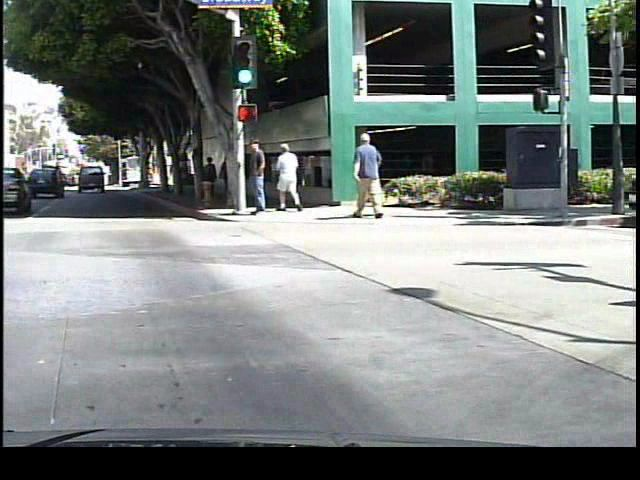person: (346, 127, 388, 218), (243, 134, 272, 223), (273, 140, 304, 213), (203, 153, 219, 201)
